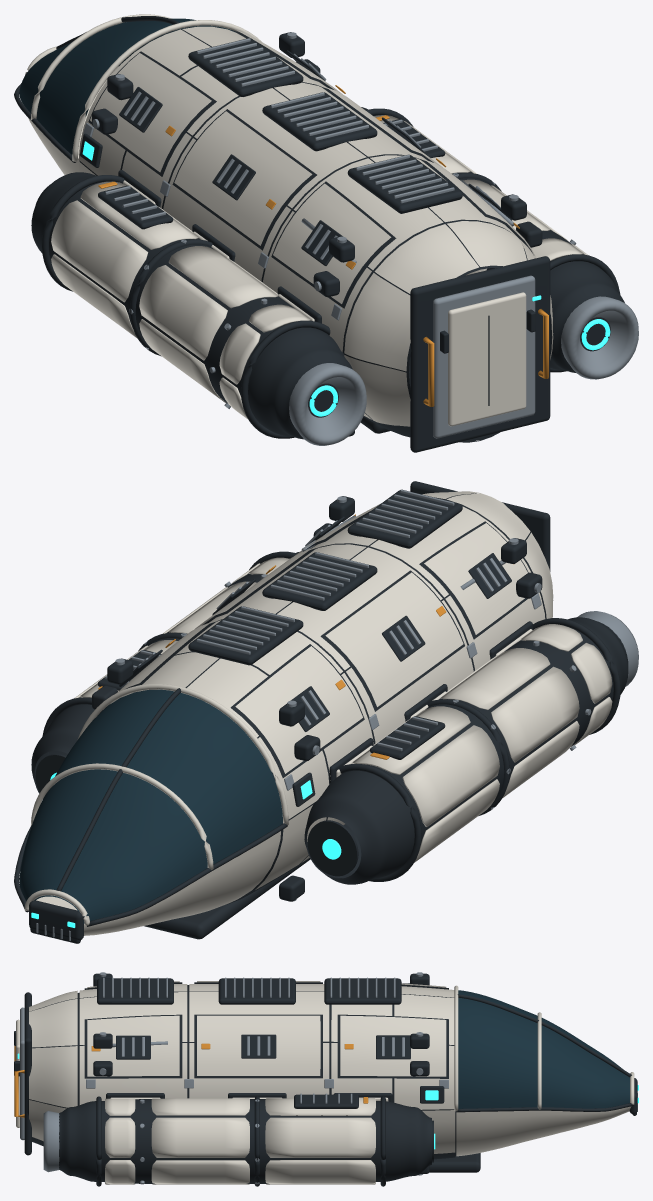
File: spacecraft-exterior-lod1.glb
The picture shows the model from 3 angles, top to bottom: view 1: azimuth 30°, elevation 25°; view 2: azimuth 150°, elevation 25°; view 3: azimuth 270°, elevation 25°; orthographic projection. The views are drawn at different scales.
Visible parts, largest first — view 1: Exterior_Hull_Ceramic_WarmWhite, Exterior_Hull_Structure_Graphite, Exterior_EnginePod_-1_Ceramic_WarmWhite, Exterior_EnginePod_-1_Structure_Graphite, Exterior_Hull_Brushed_Titanium, Door_Outer, Canopy_Glass, Exterior_EnginePod_1_Structure_Graphite, Exterior_EnginePod_-1_Brushed_Titanium, Exterior_EnginePod_1_Brushed_Titanium, Exterior_EnginePod_1_Ceramic_WarmWhite, Exterior_Hull_Maintenance_Amber; view 2: Exterior_Hull_Ceramic_WarmWhite, Canopy_Glass, Exterior_Hull_Structure_Graphite, Exterior_EnginePod_-1_Ceramic_WarmWhite, Exterior_EnginePod_-1_Structure_Graphite, Exterior_Hull_Brushed_Titanium, Exterior_EnginePod_1_Structure_Graphite, Exterior_EnginePod_1_Ceramic_WarmWhite, Exterior_EnginePod_-1_Brushed_Titanium; view 3: Exterior_Hull_Ceramic_WarmWhite, Exterior_EnginePod_1_Ceramic_WarmWhite, Exterior_Hull_Structure_Graphite, Canopy_Glass, Exterior_EnginePod_1_Structure_Graphite, Exterior_Hull_Brushed_Titanium, Exterior_EnginePod_1_Brushed_Titanium, Exterior_Hull_Maintenance_Amber.
Boxes of the visible parts, x1,y1,x2,y2 form: Exterior_Hull_Ceramic_WarmWhite: (25, 14, 553, 426); Exterior_Hull_Structure_Graphite: (14, 16, 552, 452); Exterior_EnginePod_-1_Ceramic_WarmWhite: (51, 181, 314, 419); Exterior_EnginePod_-1_Structure_Graphite: (31, 172, 352, 439); Exterior_Hull_Brushed_Titanium: (83, 32, 539, 438); Door_Outer: (448, 292, 526, 426); Canopy_Glass: (19, 18, 235, 154); Exterior_EnginePod_1_Structure_Graphite: (361, 107, 624, 372); Exterior_EnginePod_-1_Brushed_Titanium: (105, 186, 366, 445); Exterior_EnginePod_1_Brushed_Titanium: (384, 119, 638, 379); Exterior_EnginePod_1_Ceramic_WarmWhite: (374, 115, 588, 275); Exterior_Hull_Maintenance_Amber: (165, 85, 548, 406); Exterior_Hull_Ceramic_WarmWhite: (24, 491, 553, 935); Canopy_Glass: (19, 689, 282, 923); Exterior_Hull_Structure_Graphite: (14, 481, 550, 943); Exterior_EnginePod_-1_Ceramic_WarmWhite: (352, 624, 612, 862); Exterior_EnginePod_-1_Structure_Graphite: (304, 617, 628, 884); Exterior_Hull_Brushed_Titanium: (36, 489, 541, 940); Exterior_EnginePod_1_Structure_Graphite: (31, 551, 298, 793); Exterior_EnginePod_1_Ceramic_WarmWhite: (74, 557, 289, 698); Exterior_EnginePod_-1_Brushed_Titanium: (377, 611, 638, 809); Exterior_Hull_Ceramic_WarmWhite: (29, 981, 634, 1156); Exterior_EnginePod_1_Ceramic_WarmWhite: (105, 1098, 375, 1184); Exterior_Hull_Structure_Graphite: (14, 973, 637, 1173); Canopy_Glass: (458, 990, 629, 1108); Exterior_EnginePod_1_Structure_Graphite: (59, 1094, 433, 1186); Exterior_Hull_Brushed_Titanium: (20, 972, 637, 1175); Exterior_EnginePod_1_Brushed_Titanium: (43, 1093, 352, 1184); Exterior_Hull_Maintenance_Amber: (14, 1043, 353, 1117).
Bounding box in the file's own units: 7.8 × 4.8 × 15.6.
